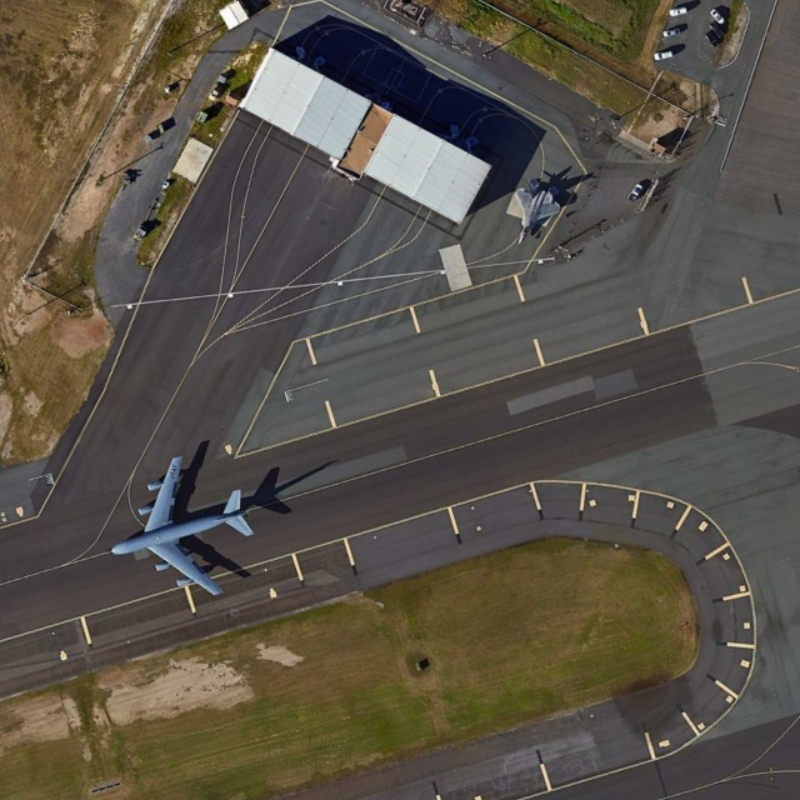A14: (102, 452, 258, 600)
A15: (508, 174, 567, 250)
